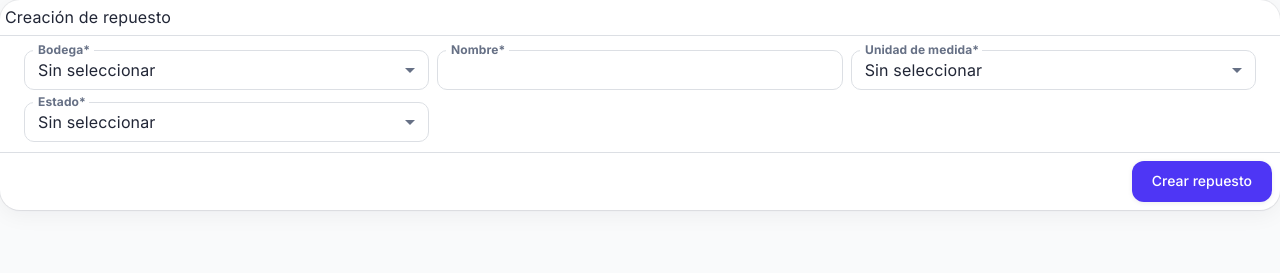
Test: FormularioCrearRepuesto › exige todos los campos
The width and height of the screenshot is (1280, 273).
What coordinates should you click on to do the following:
click the button "Crear repuesto"
I would click on:
 (1202, 181)
Its box is [1132,161,1272,202].
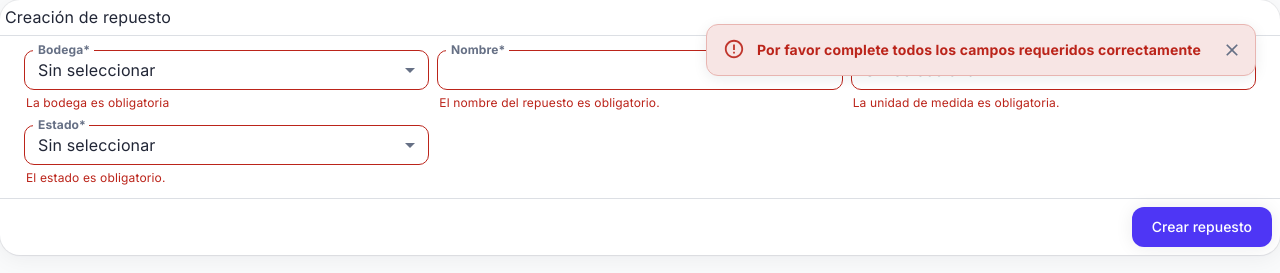
Result: the text "Por favor complete todos los campos requeridos correctamente" is shown at [757,41,1201,58]
Result: the text "El nombre del repuesto es obligatorio." is shown at [439,95,660,110]
Result: the text "El estado es obligatorio." is shown at [26,170,166,185]
